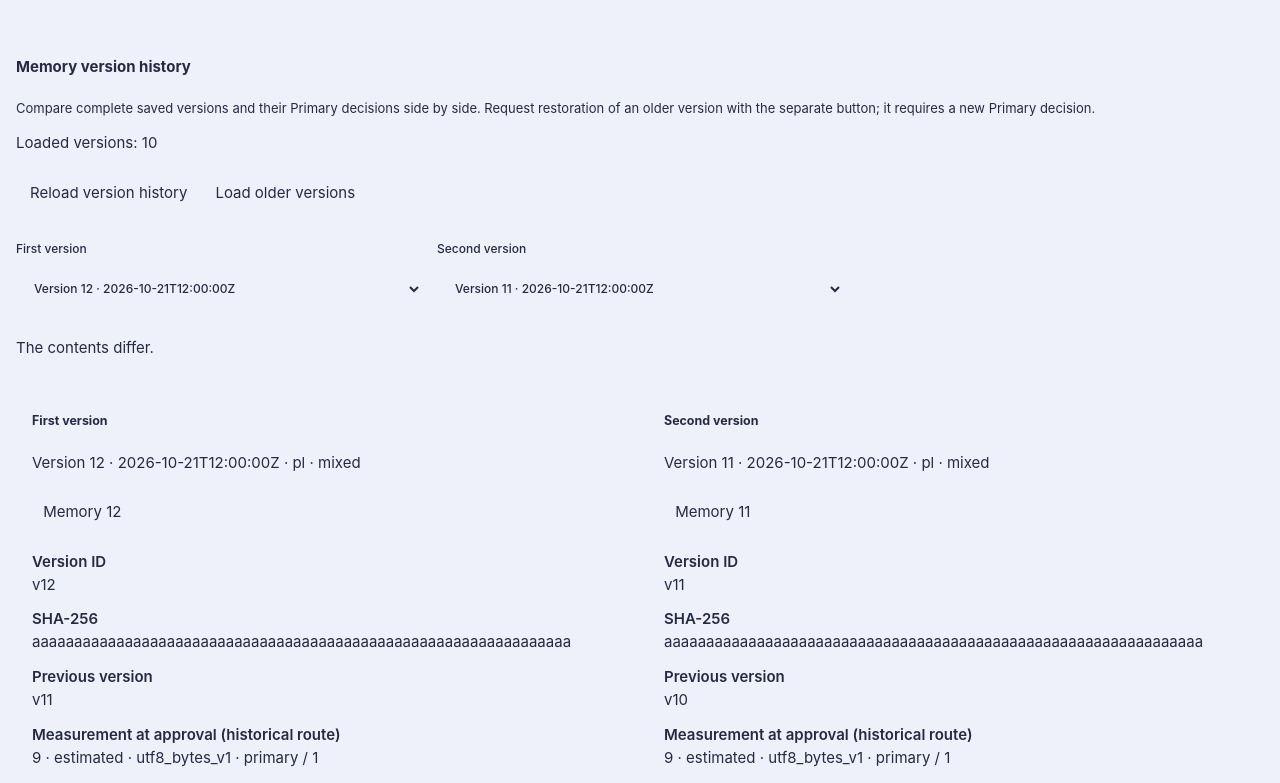
Scenario: paginates with exactly the returned cursor and unchanged page size
Click the button "Load older versions" at (285, 192), box [201,170,369,215]
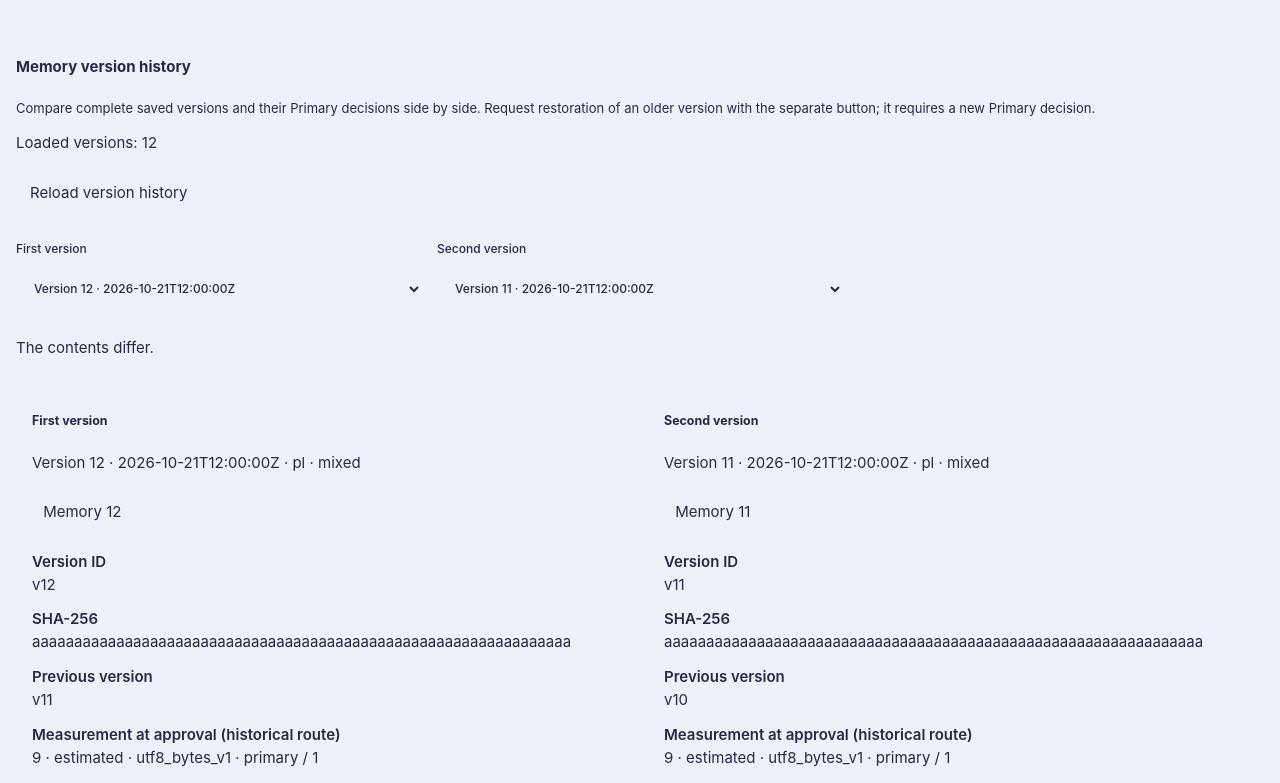
Check: the text "Loaded versions: 12" is shown, box [16,134,157,152]
